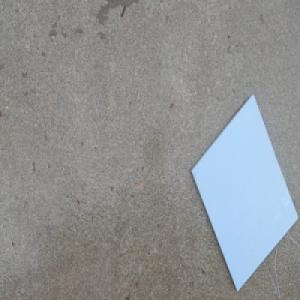PaintChip: (189, 92, 299, 293)
